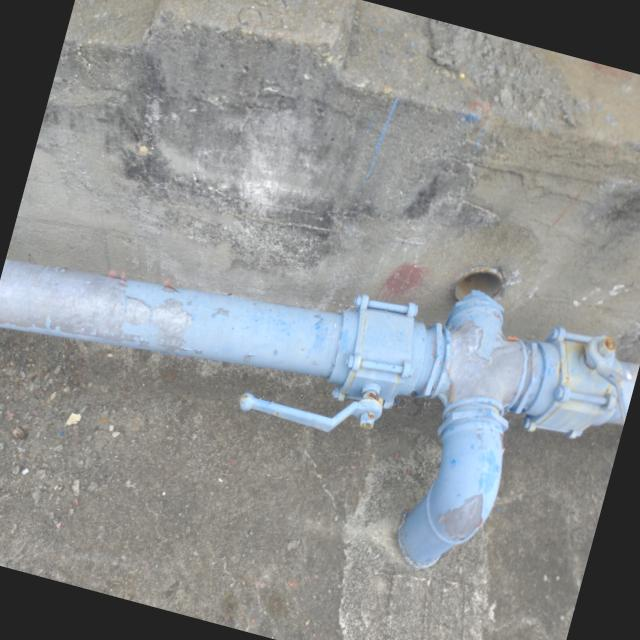gas: (0, 260, 640, 422), (404, 304, 504, 570)
